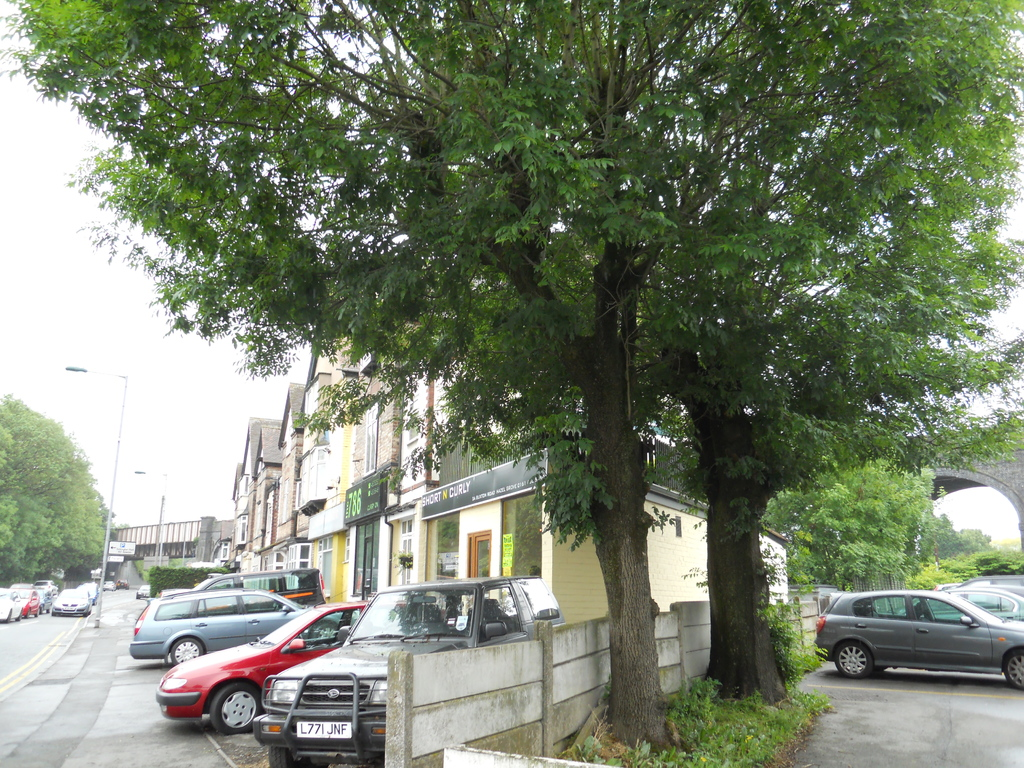Car: (253, 574, 564, 767), (156, 590, 446, 735), (813, 588, 1023, 689), (129, 581, 359, 665), (157, 566, 325, 619), (888, 574, 1023, 614), (899, 587, 1023, 622), (0, 579, 99, 621), (115, 579, 130, 589), (102, 579, 115, 590)
